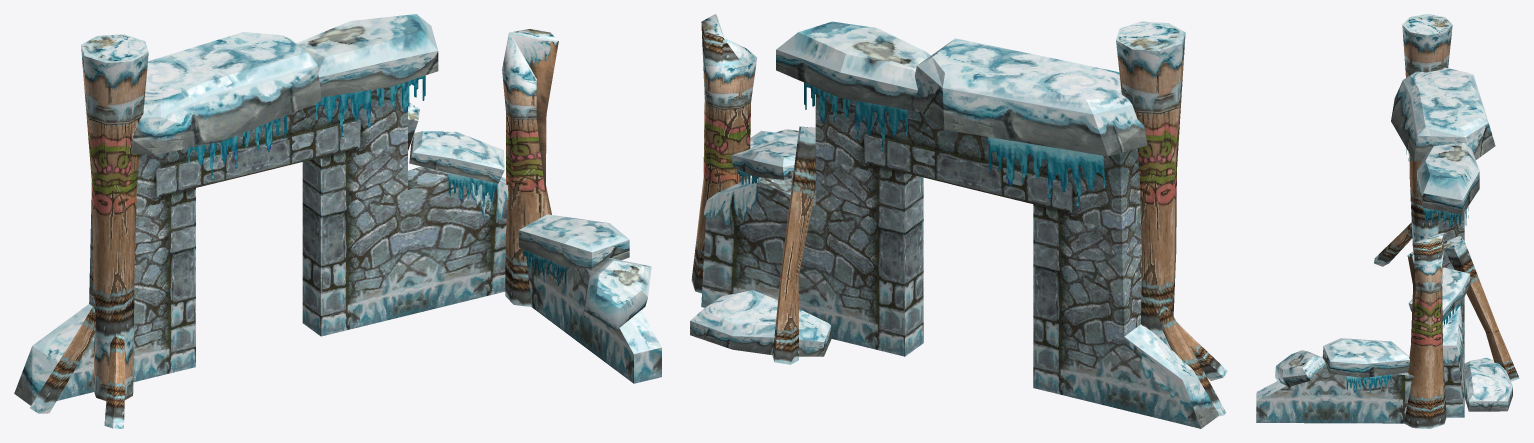
3 renders of one model, left to right at view 1: azimuth 30°, elevation 25°; view 2: azimuth 150°, elevation 25°; view 3: azimuth 270°, elevation 25°, orthographic. The views are drawn at different scales.
Parts seen in each view (by area): view 1: geom_node_0, geom_node_1; view 2: geom_node_0, geom_node_1; view 3: geom_node_1, geom_node_0.
Part boxes in pixels (<box>): geom_node_0: <box>14,14,438,428</box>; geom_node_1: <box>408,29,661,383</box>; geom_node_0: <box>772,21,1227,428</box>; geom_node_1: <box>690,14,831,356</box>; geom_node_1: <box>1256,232,1512,428</box>; geom_node_0: <box>1374,14,1519,381</box>.
Size of the model in its own units: 8.75 by 5.51 by 5.22.
Materials: 4 (4 with a texture image).
